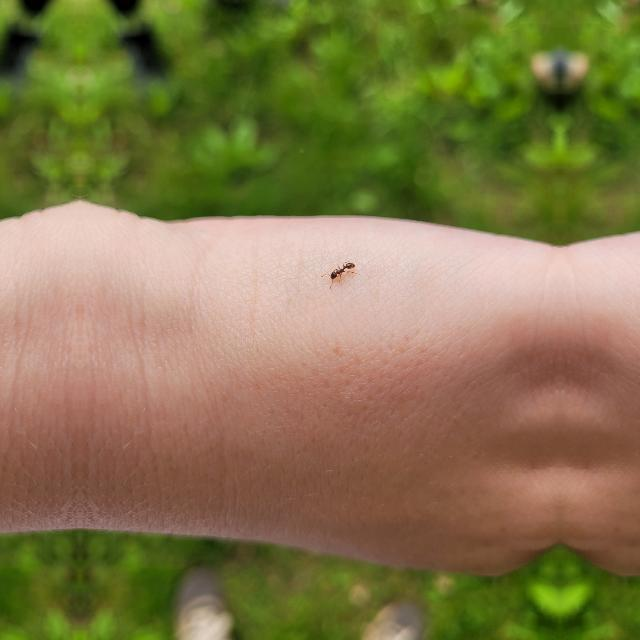Tetramorium: (324, 256, 358, 286)
